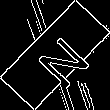N_NW: (23, 23, 87, 87)
